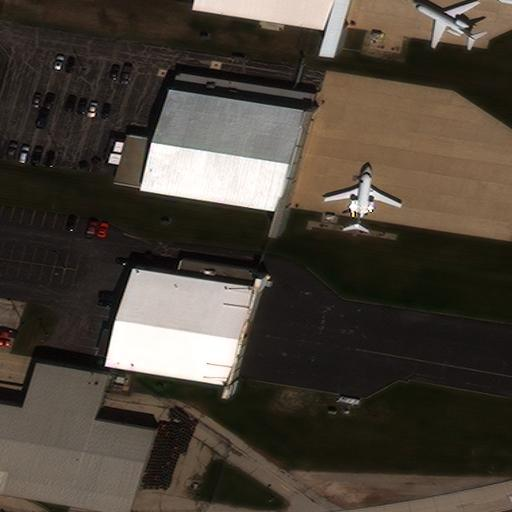Medium Civil Transport: (323, 164, 402, 230), (412, 0, 476, 48)
